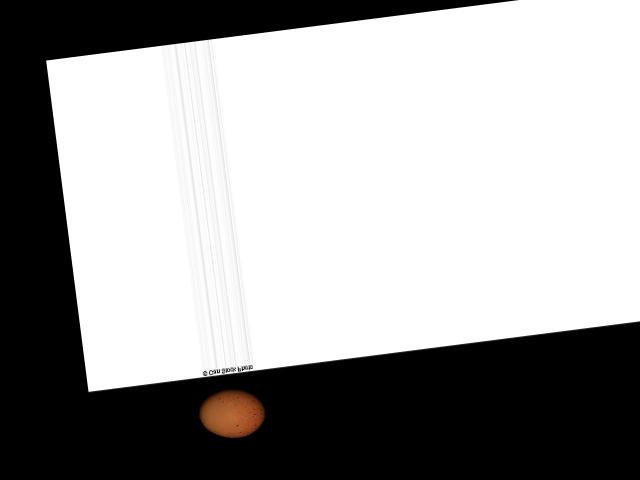egg: (196, 383, 268, 441)
